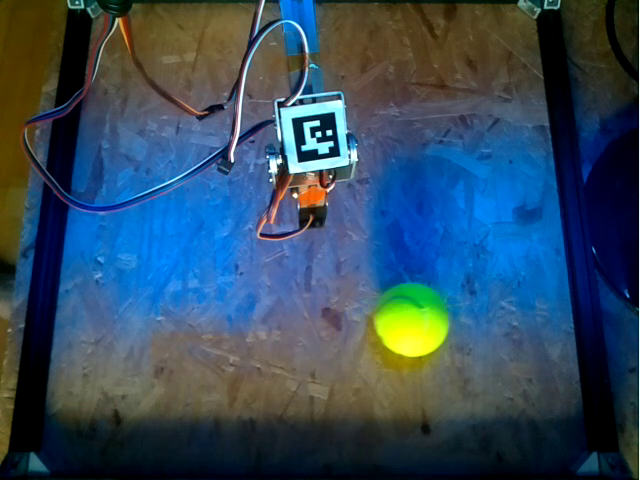tennis_ball: (372, 282, 450, 357)
